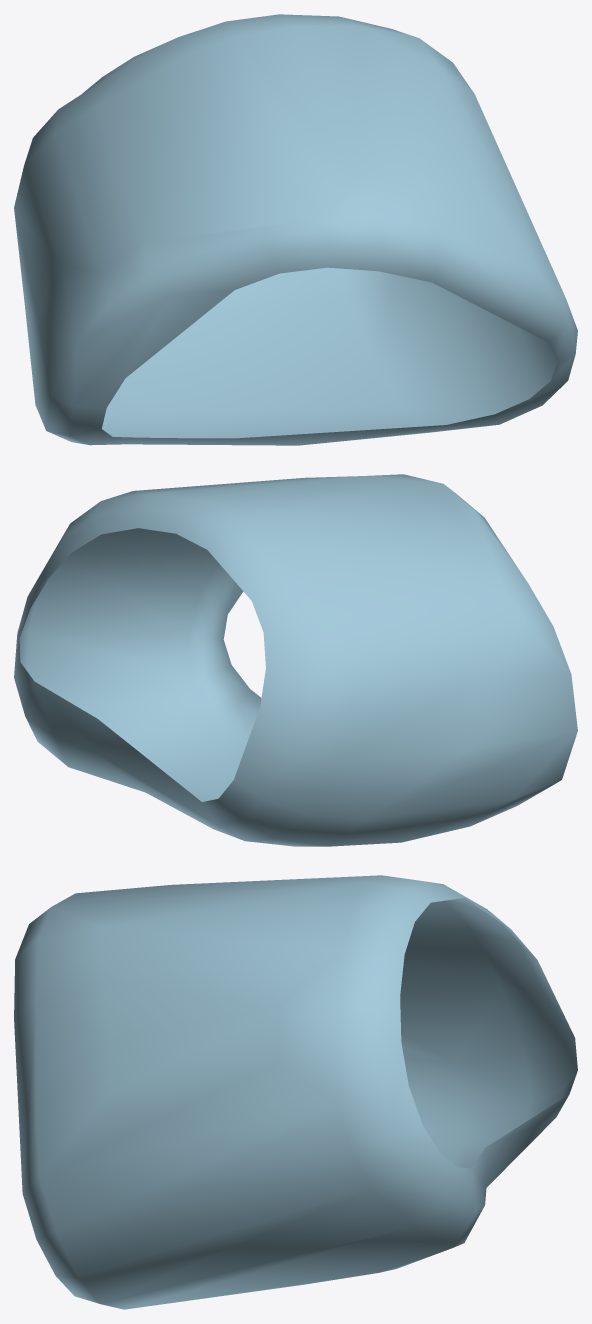
File: articulacoes-articular-capsule-of-interphalangeal-joint-of-great-toe-r.glb
3 renders of one model, top to bottom at view 1: azimuth 30°, elevation 25°; view 2: azimuth 150°, elevation 25°; view 3: azimuth 270°, elevation 25°, orthographic. The views are drawn at different scales.
Parts seen in each view (by area): view 1: Articular capsule of interphalangeal joint of great toe.r; view 2: Articular capsule of interphalangeal joint of great toe.r; view 3: Articular capsule of interphalangeal joint of great toe.r.
Boxes of the visible parts, box(x1,y1,x2,y2) form: Articular capsule of interphalangeal joint of great toe.r: box(14, 14, 577, 445); Articular capsule of interphalangeal joint of great toe.r: box(14, 474, 577, 846); Articular capsule of interphalangeal joint of great toe.r: box(14, 875, 577, 1309).
Size of the model in its own units: 0.0211 by 0.0138 by 0.0193.
